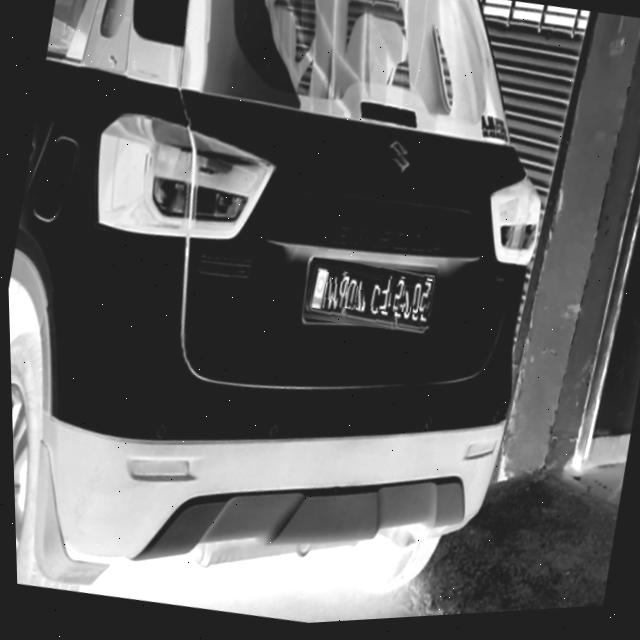0: (342, 278, 359, 314), (408, 285, 422, 320)
5: (415, 285, 432, 321), (390, 282, 405, 318)
7: (352, 280, 366, 315)
9: (399, 284, 413, 318)
C: (364, 281, 382, 316)
F: (374, 281, 392, 317)
IND: (307, 275, 327, 314)
Indian_registered: (307, 263, 430, 337)
M: (320, 277, 340, 316)
P: (333, 277, 349, 314)
